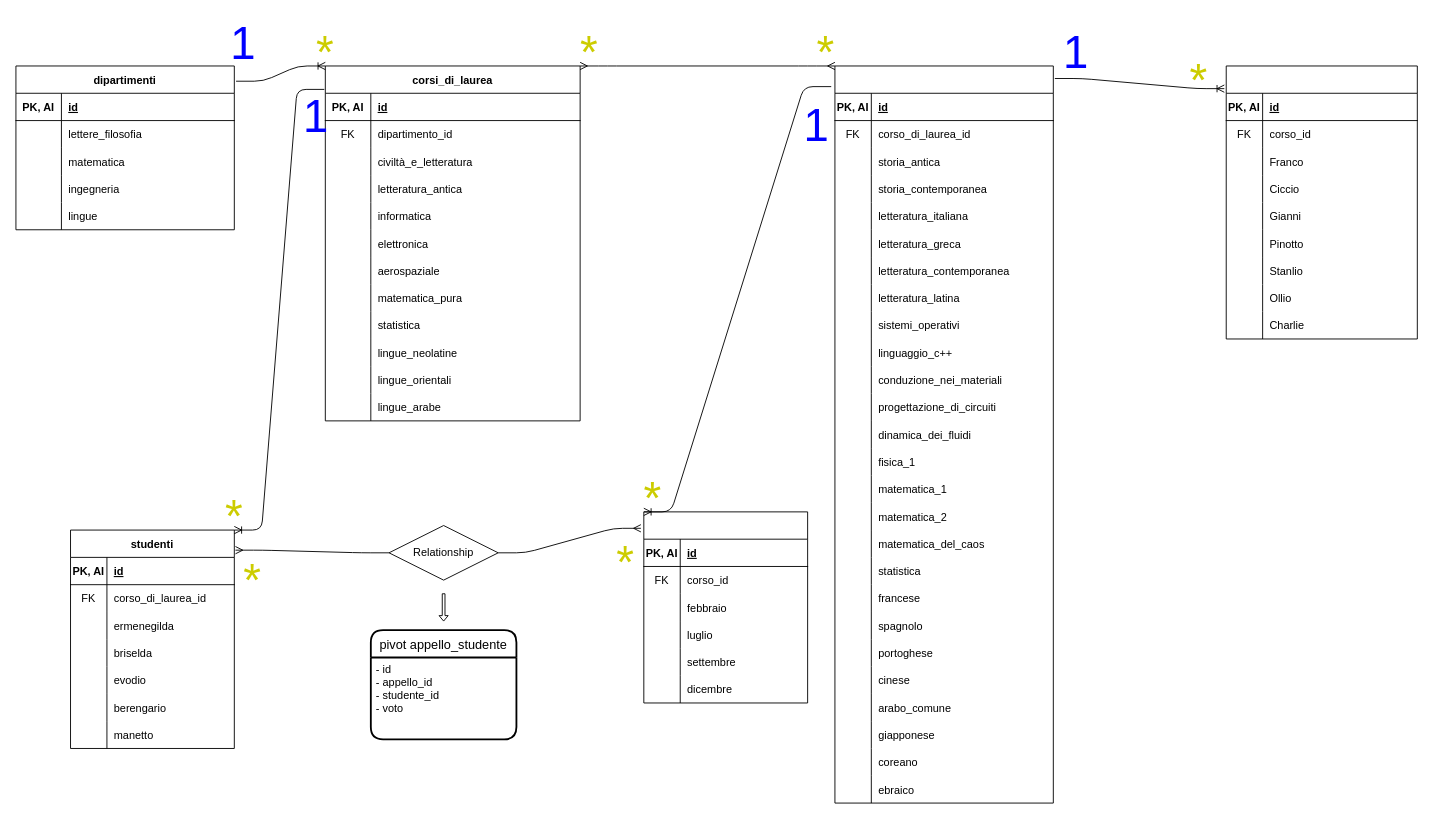
Image size: 1433x819. Some labels were removed from this diagram. The box of each missing label's shape, as (x1, y1, x2, y2) in pixels:
appelli: (643, 511, 808, 703)
corsi: (834, 65, 1053, 803)
insegnanti: (1225, 65, 1417, 339)
